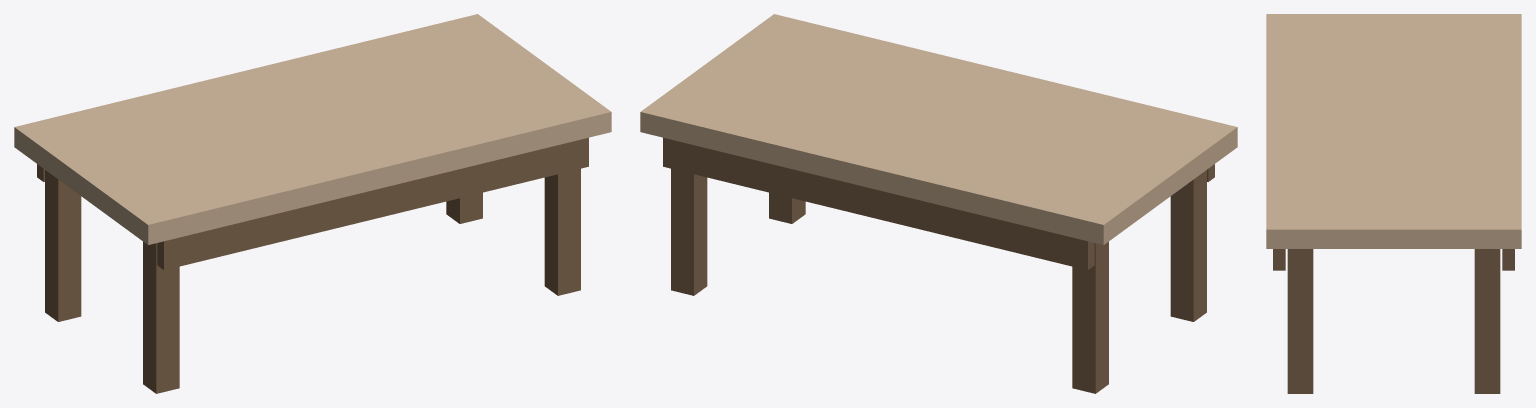
Rendered from Low_Table.fbx.
The picture shows the model from 3 angles, left to right: view 1: azimuth 30°, elevation 25°; view 2: azimuth 150°, elevation 25°; view 3: azimuth 270°, elevation 25°; orthographic projection. The views are drawn at different scales.
Visible parts, largest first — view 1: Low_Table; view 2: Low_Table; view 3: Low_Table.
Part boxes in pixels (<box>): Low_Table: <box>14,14,611,393</box>; Low_Table: <box>640,14,1237,393</box>; Low_Table: <box>1266,14,1521,393</box>.
Size of the model in its own units: 1.2 by 0.45 by 0.6.
